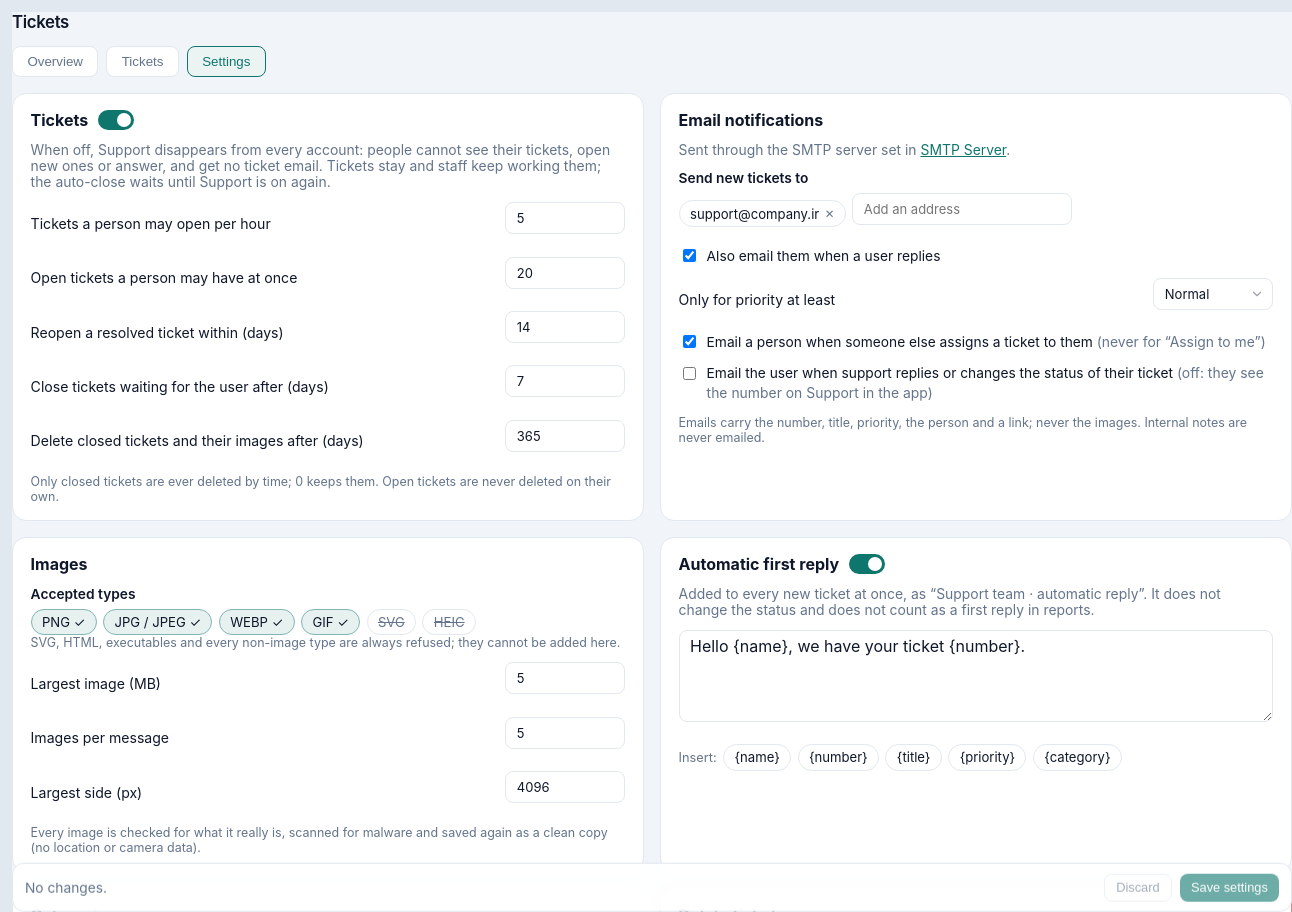
Tickets settings › keeps at least one image type and one category
Click the button "PNG ✓": x=64, y=622 left=31, top=608, right=97, bottom=635
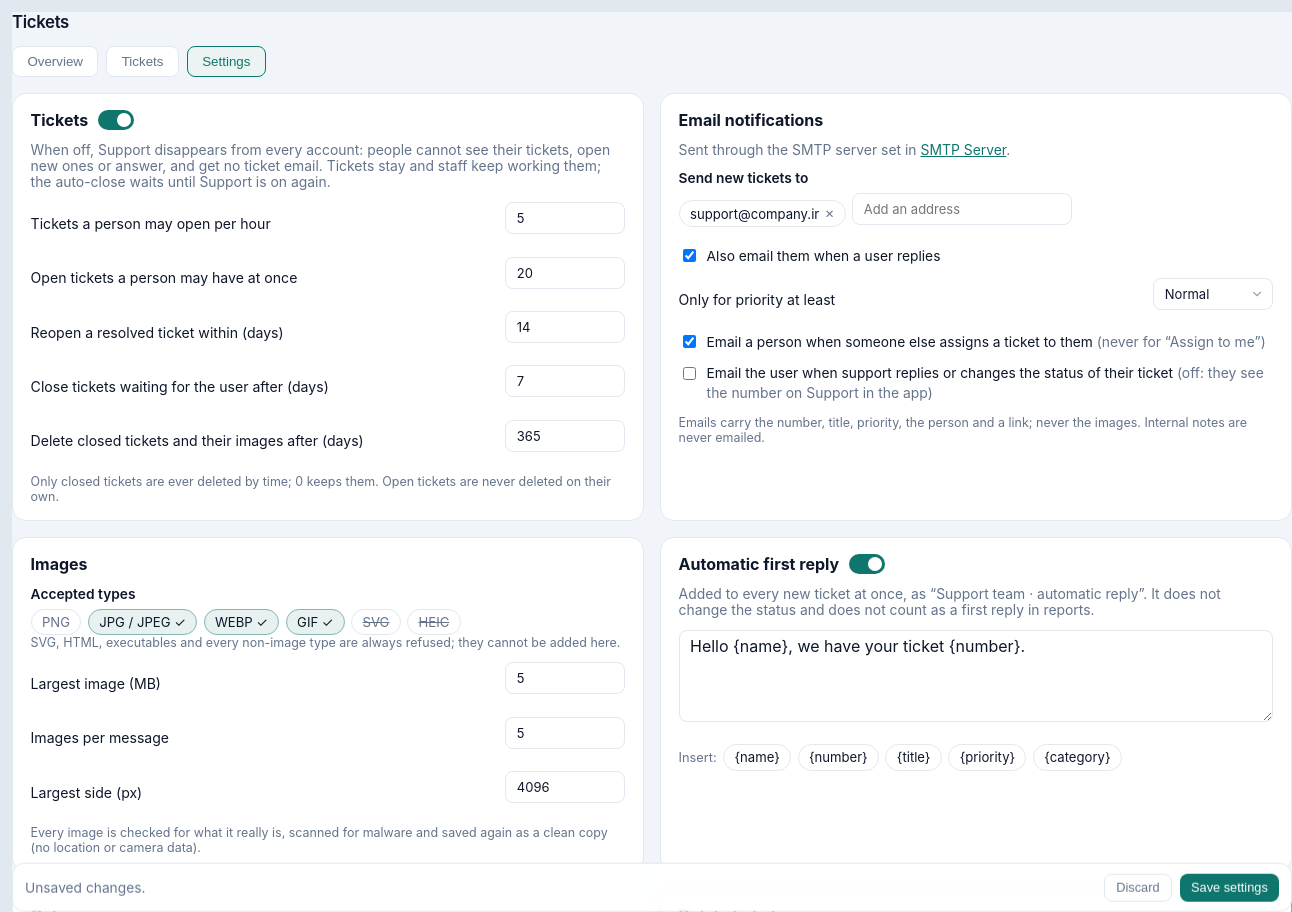
Click the button "JPG / JPEG ✓": x=142, y=622 left=88, top=608, right=197, bottom=635
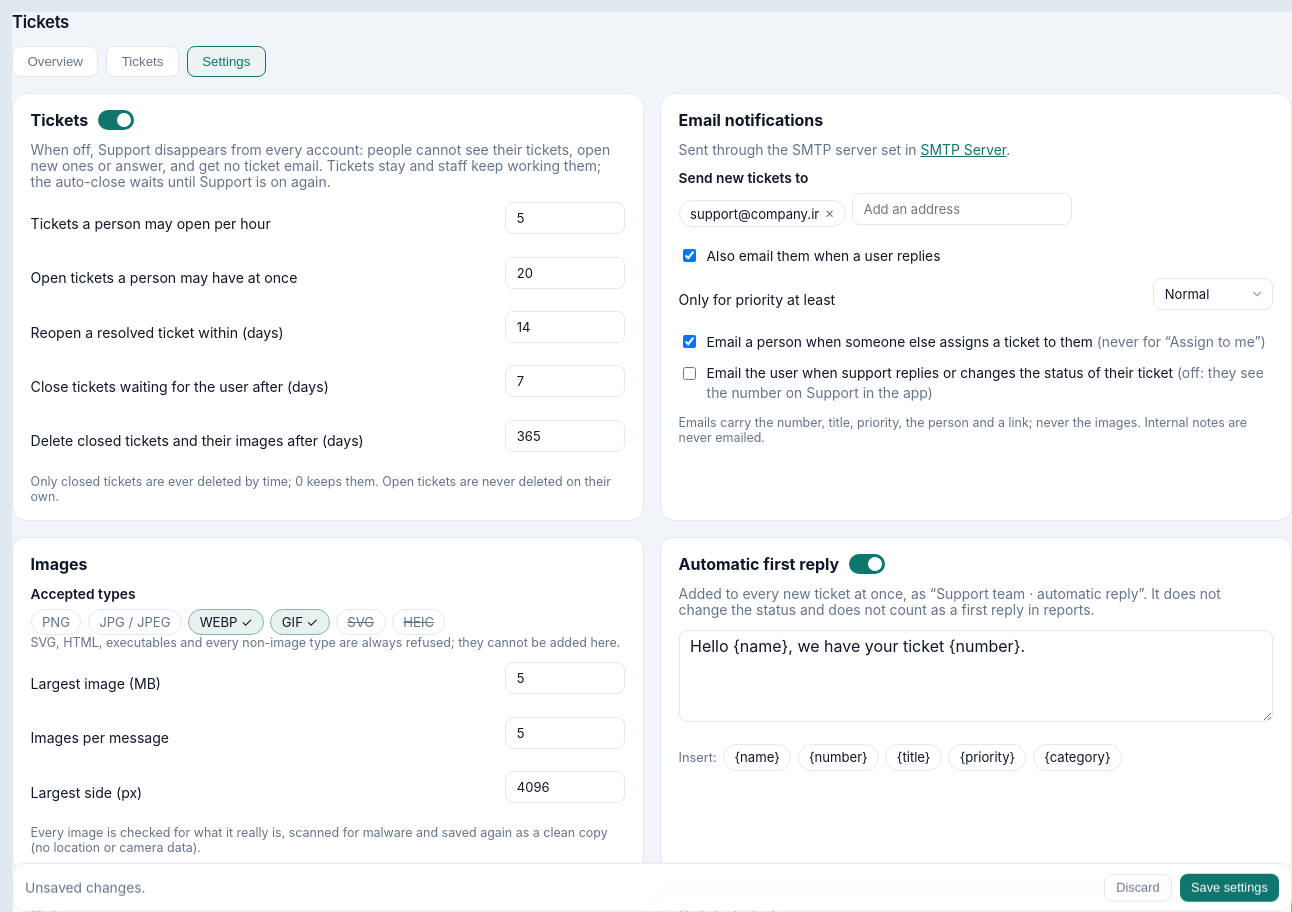
Click the button "WEBP ✓": x=226, y=622 left=188, top=608, right=264, bottom=635
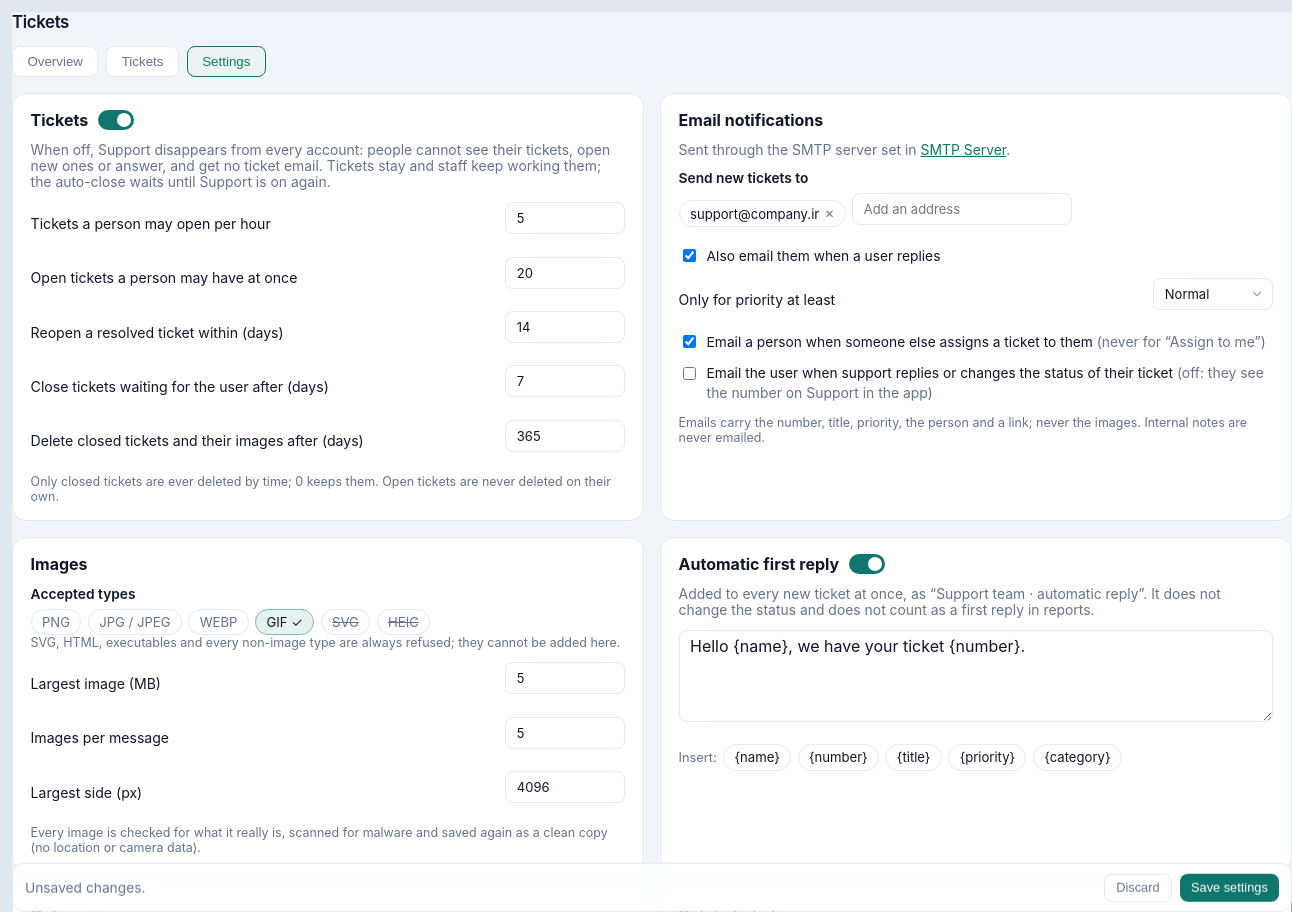
Click the button "GIF ✓": x=285, y=622 left=255, top=608, right=314, bottom=635
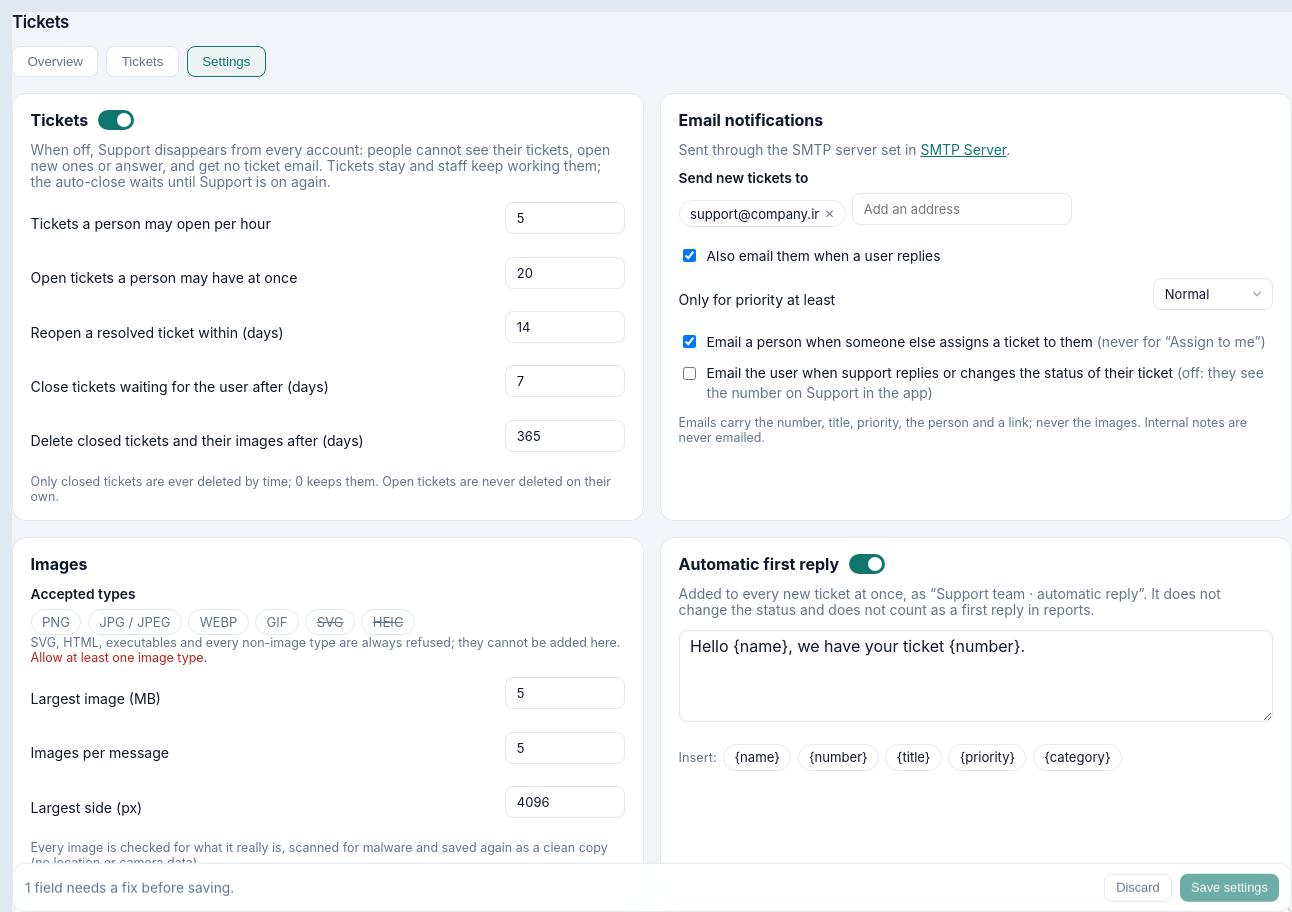
Now the text "Allow at least one image type." is shown, box left=31, top=650, right=207, bottom=665
Now the button "Save settings" is disabled, box left=1180, top=873, right=1279, bottom=901
